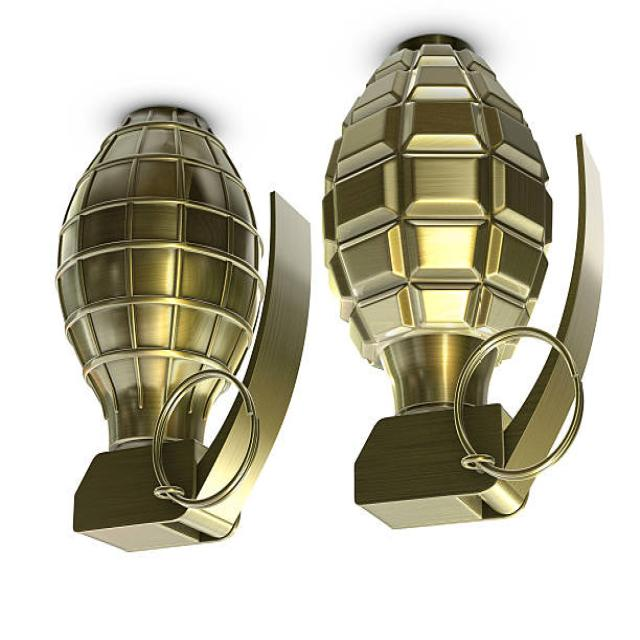grenade: (316, 33, 609, 535), (49, 101, 315, 558)
